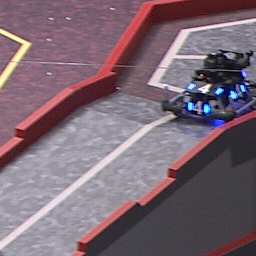Blue: (187, 82, 225, 97), (186, 100, 212, 117), (229, 83, 246, 100)
Robot: (160, 48, 256, 123)
